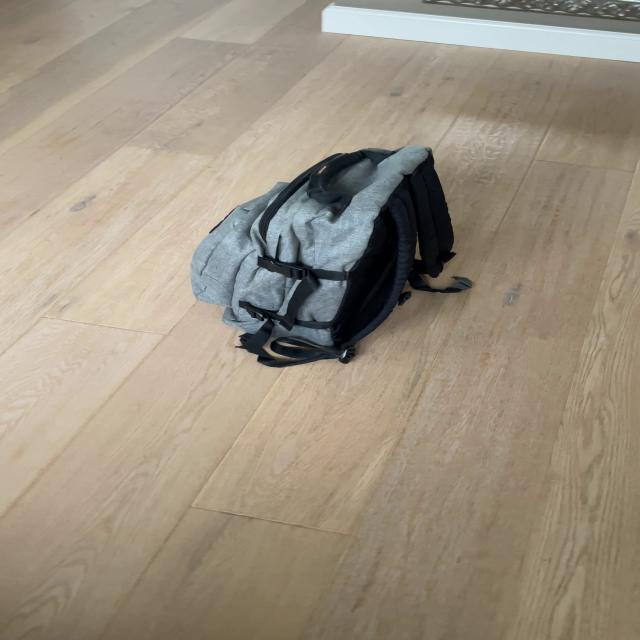backpack: (177, 135, 464, 373)
